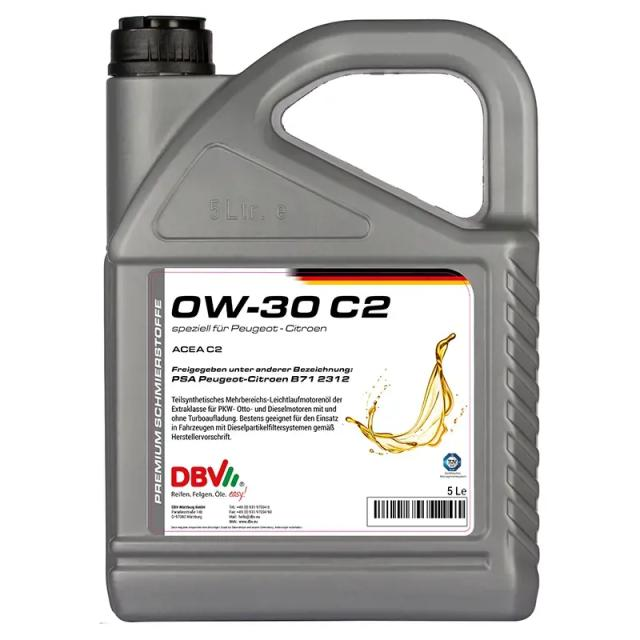motor_oil: (100, 6, 545, 625)
